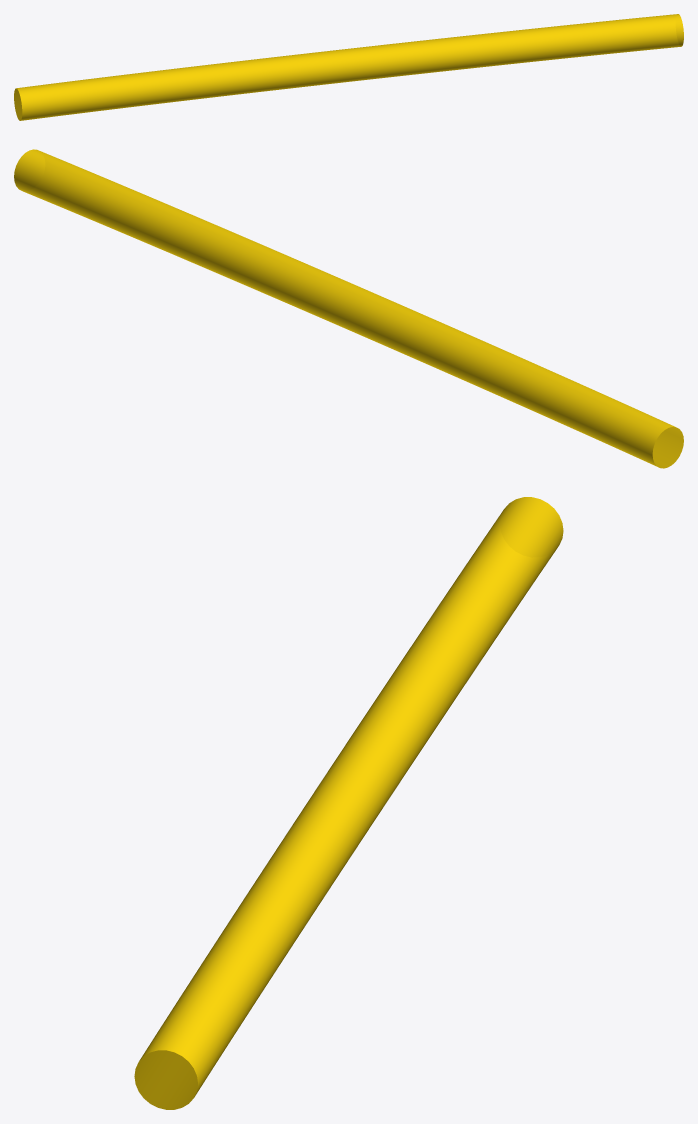
The model's file is Event_420604493_track_10.fbx.
3 views of the same model, one above another, from view 1: azimuth 30°, elevation 25°; view 2: azimuth 150°, elevation 25°; view 3: azimuth 270°, elevation 25° (orthographic). The views are drawn at different scales.
Parts seen in each view (by area): view 1: Model; view 2: Model; view 3: Model.
Boxes of the visible parts, <box> form: Model: <box>14,14,683,120</box>; Model: <box>14,149,683,468</box>; Model: <box>134,497,563,1109</box>.
Bounding box in the file's own units: 0.8077 × 0.0444 × 0.2597.
